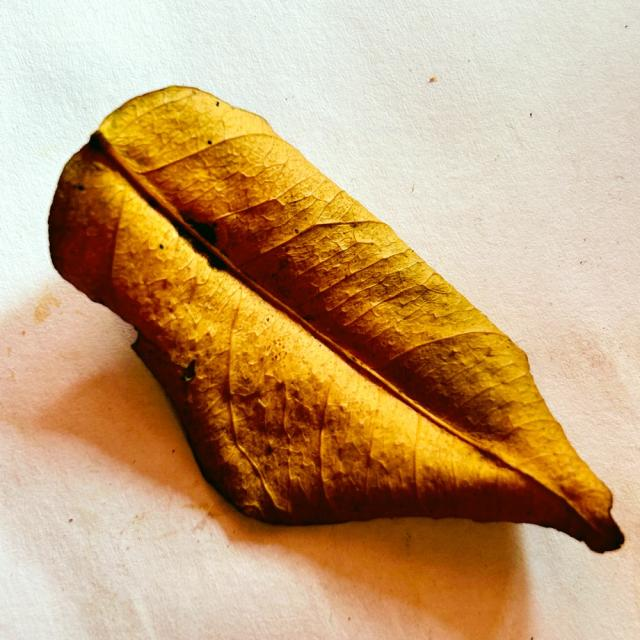DryLeaf_Lemon: (48, 86, 621, 551)
